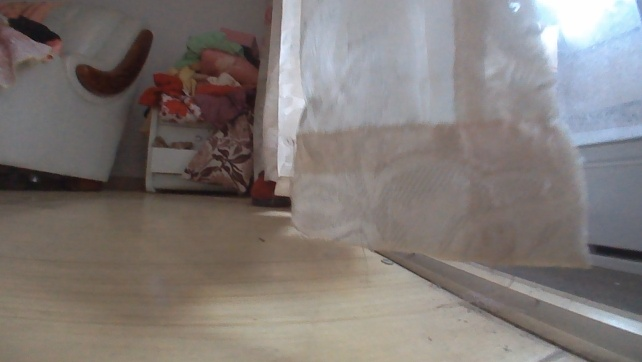cabinet: (143, 101, 245, 193)
sofa1: (1, 0, 152, 188)
